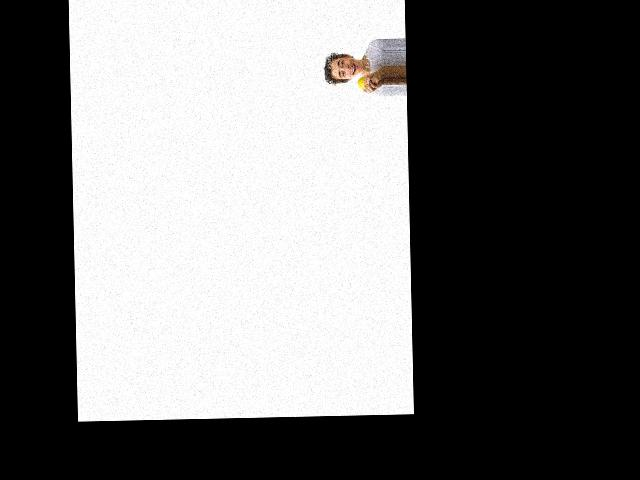apple: (357, 76, 372, 94)
